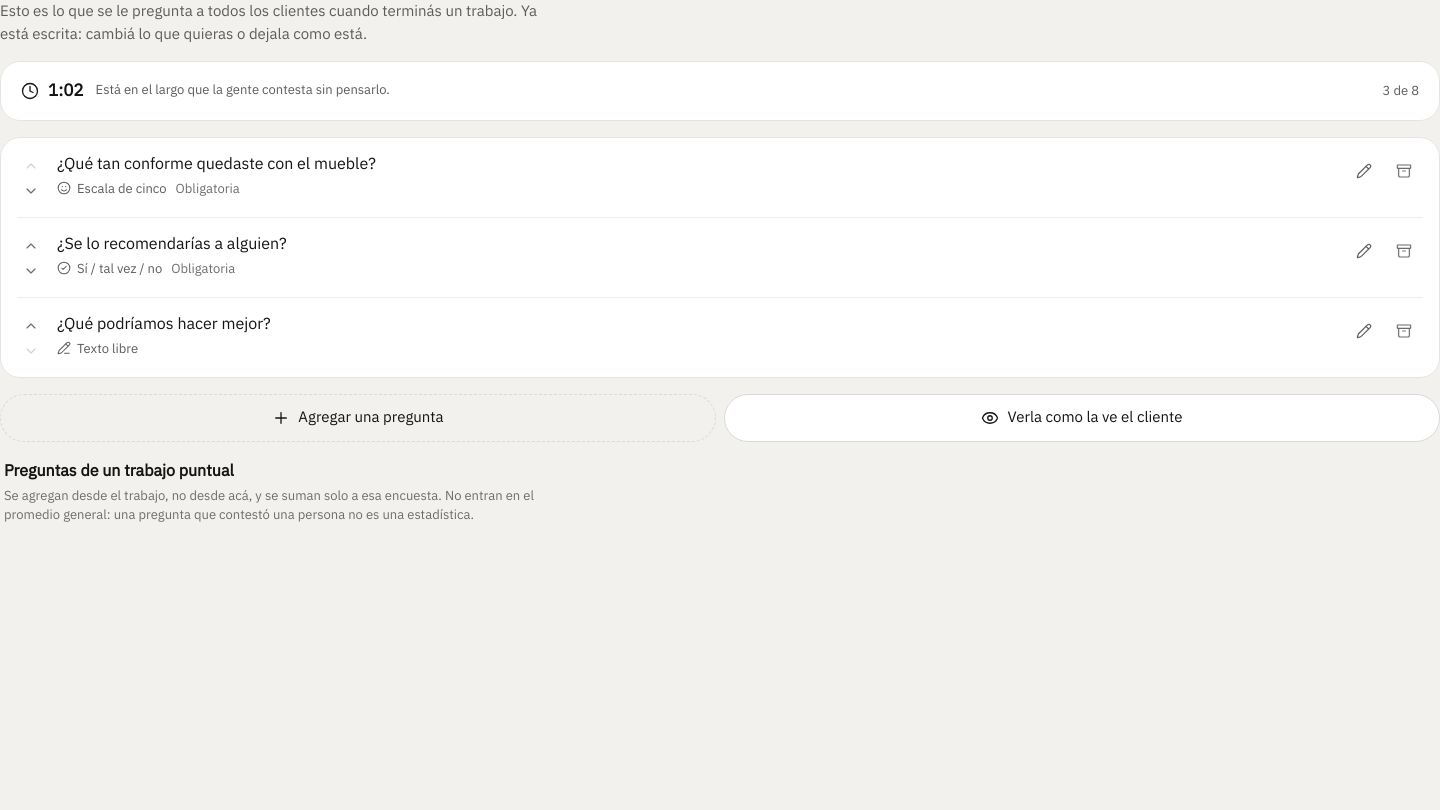
el editor de la encuesta › la vista previa muestra la encuesta como la ve el cliente y no guarda nada
Click the button "Verla como la ve el cliente".
click(1082, 418)  # box [724,394,1439,442]
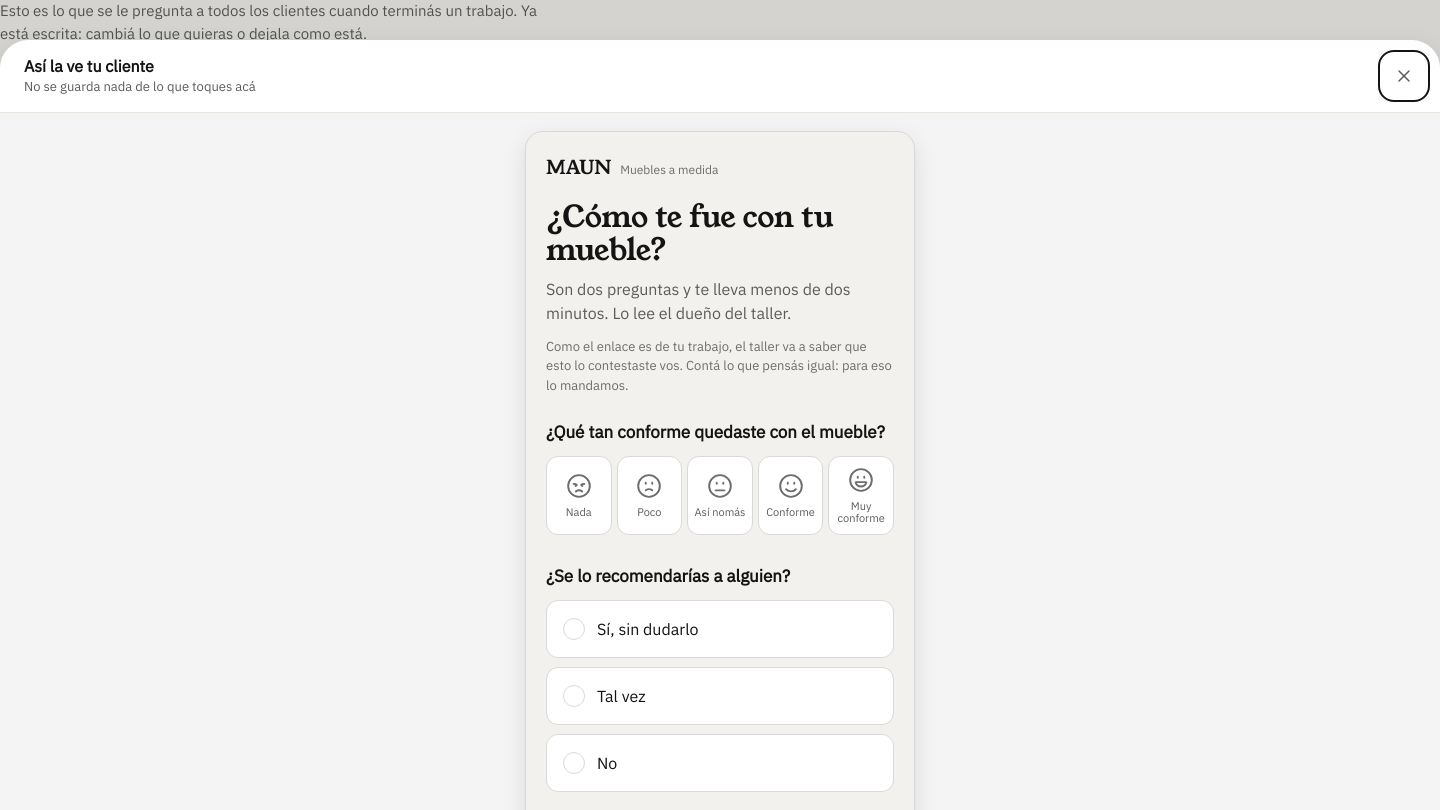
Expected: the text "No se guarda nada de lo que toques acá" is shown, [24,77,256,97]
Expected: the heading "¿Cómo te fue con tu mueble?" is shown, [546,196,833,270]
Click the radio button labelled "Muy conforme".
click(861, 496)  # box [828,456,894,535]
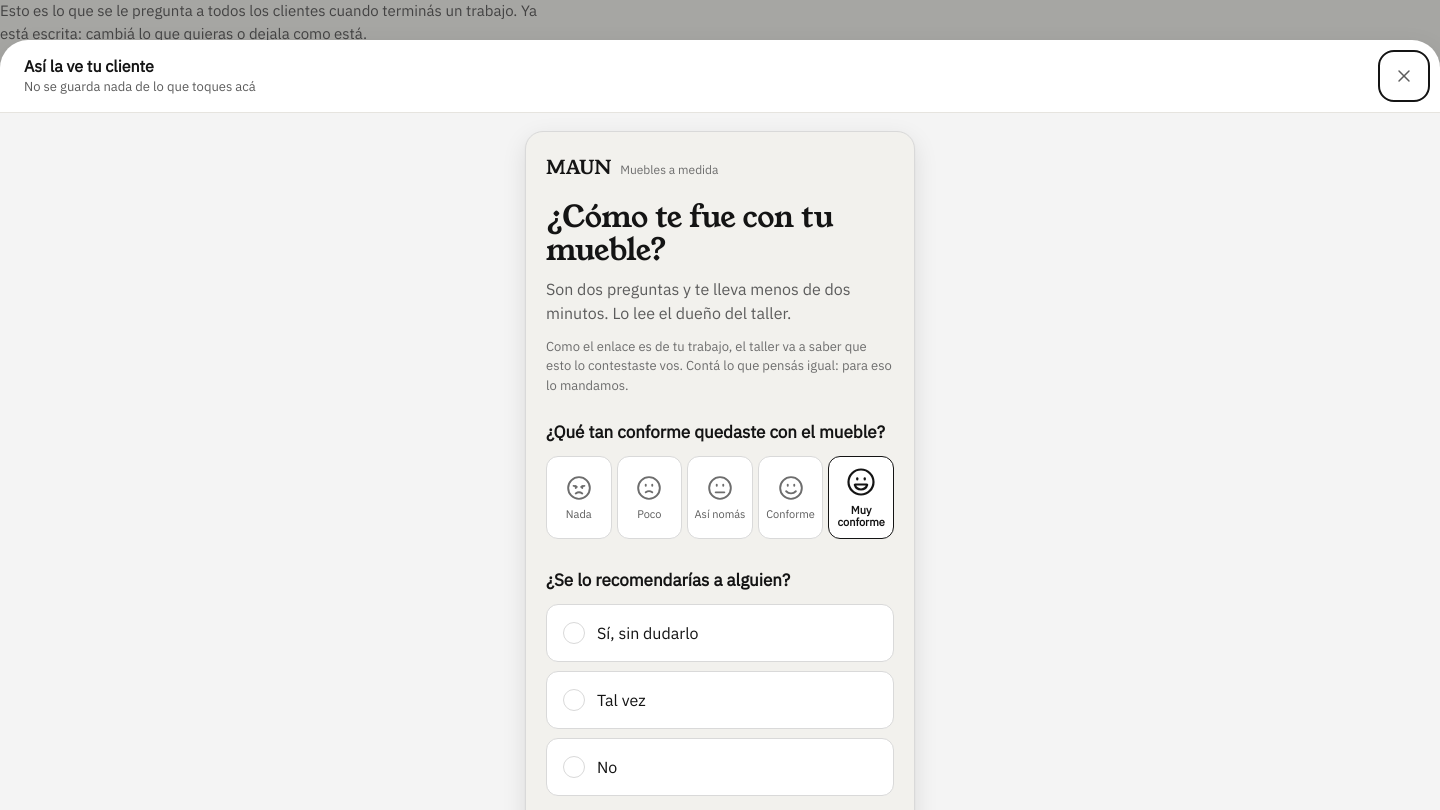
Click the radio button labelled "Sí, sin dudarlo".
click(648, 633)  # box [546,604,894,662]
(page scrolled)
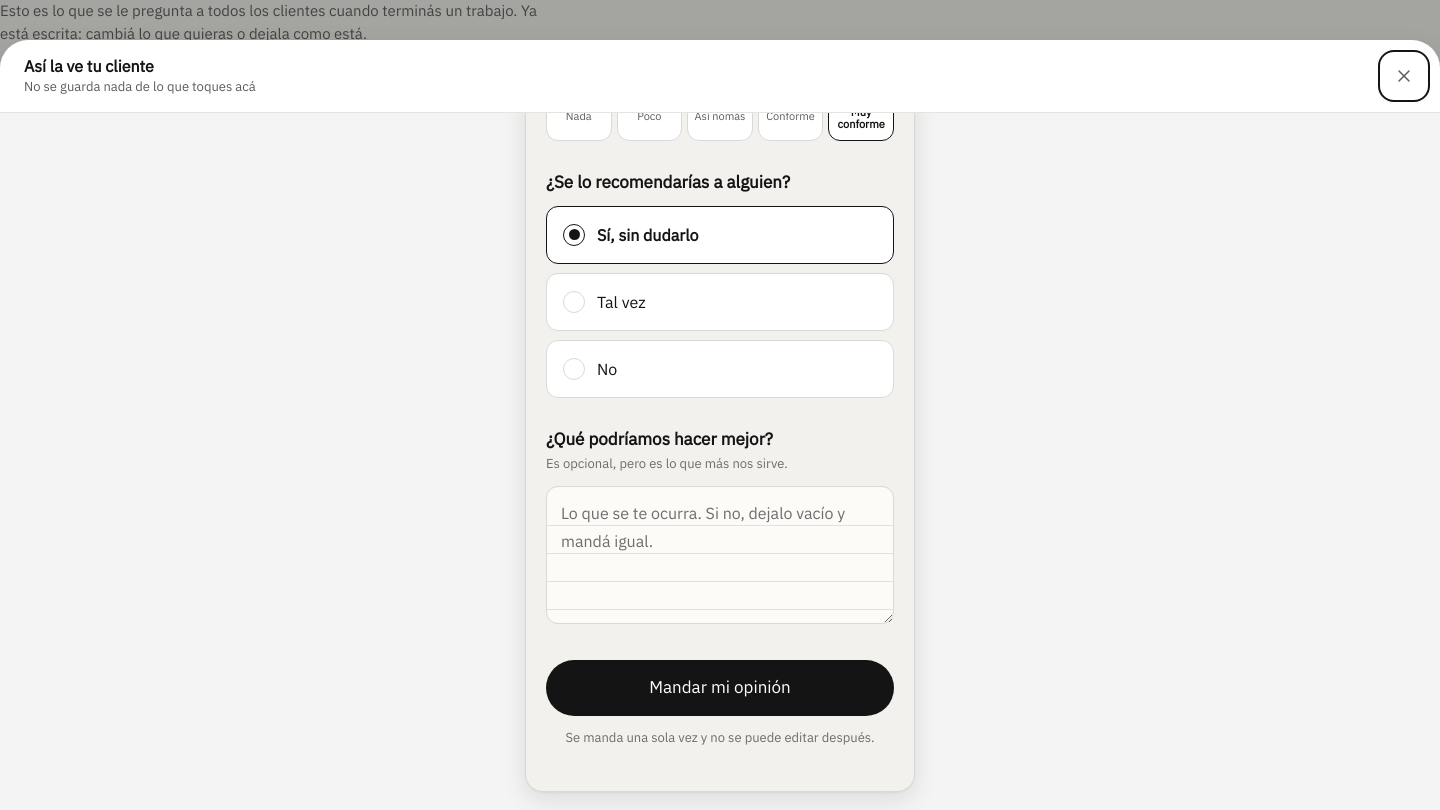
Click the button "Mandar mi opinión".
click(720, 688)  # box [546,660,894,716]
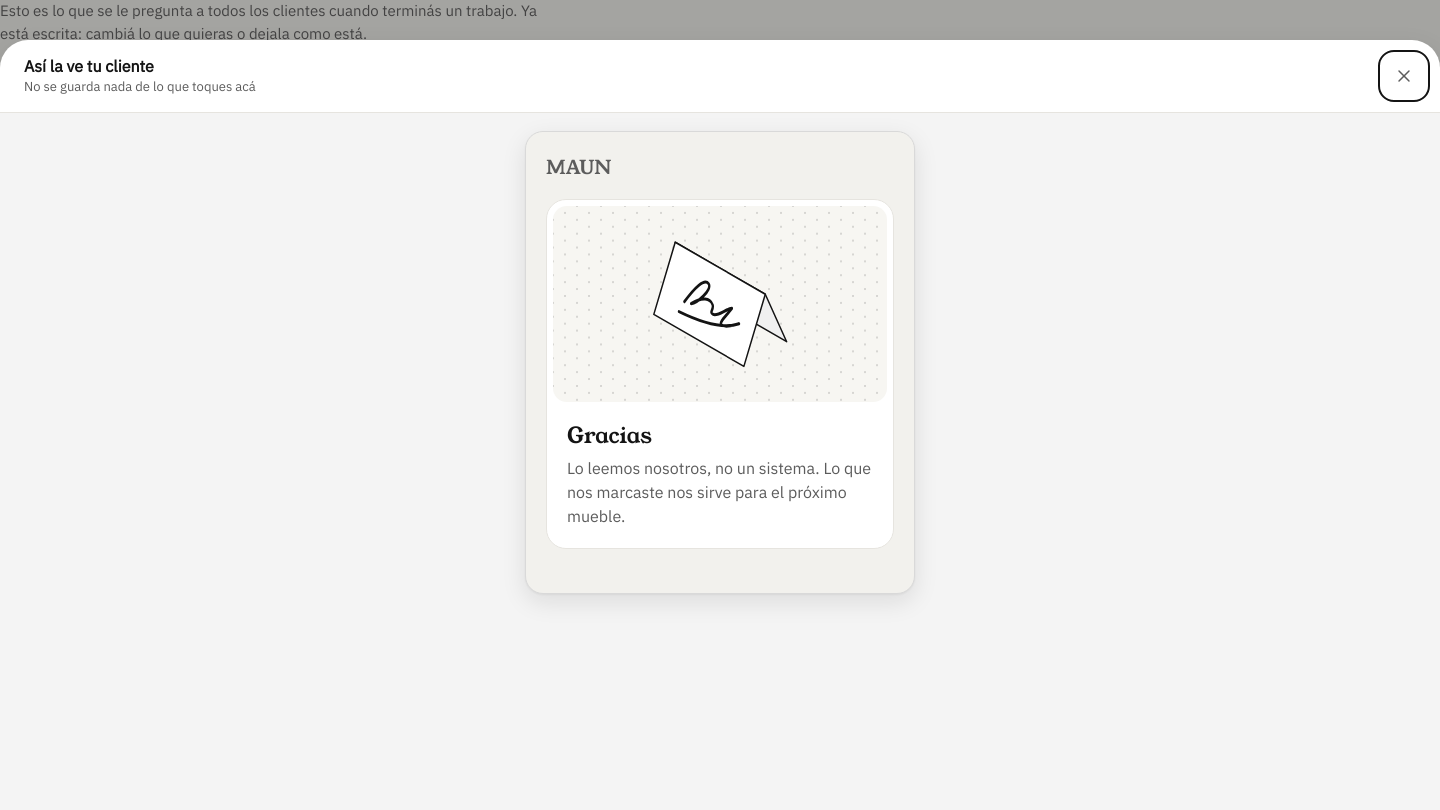
Expected: the heading "Gracias" is shown, [567,424,652,448]
